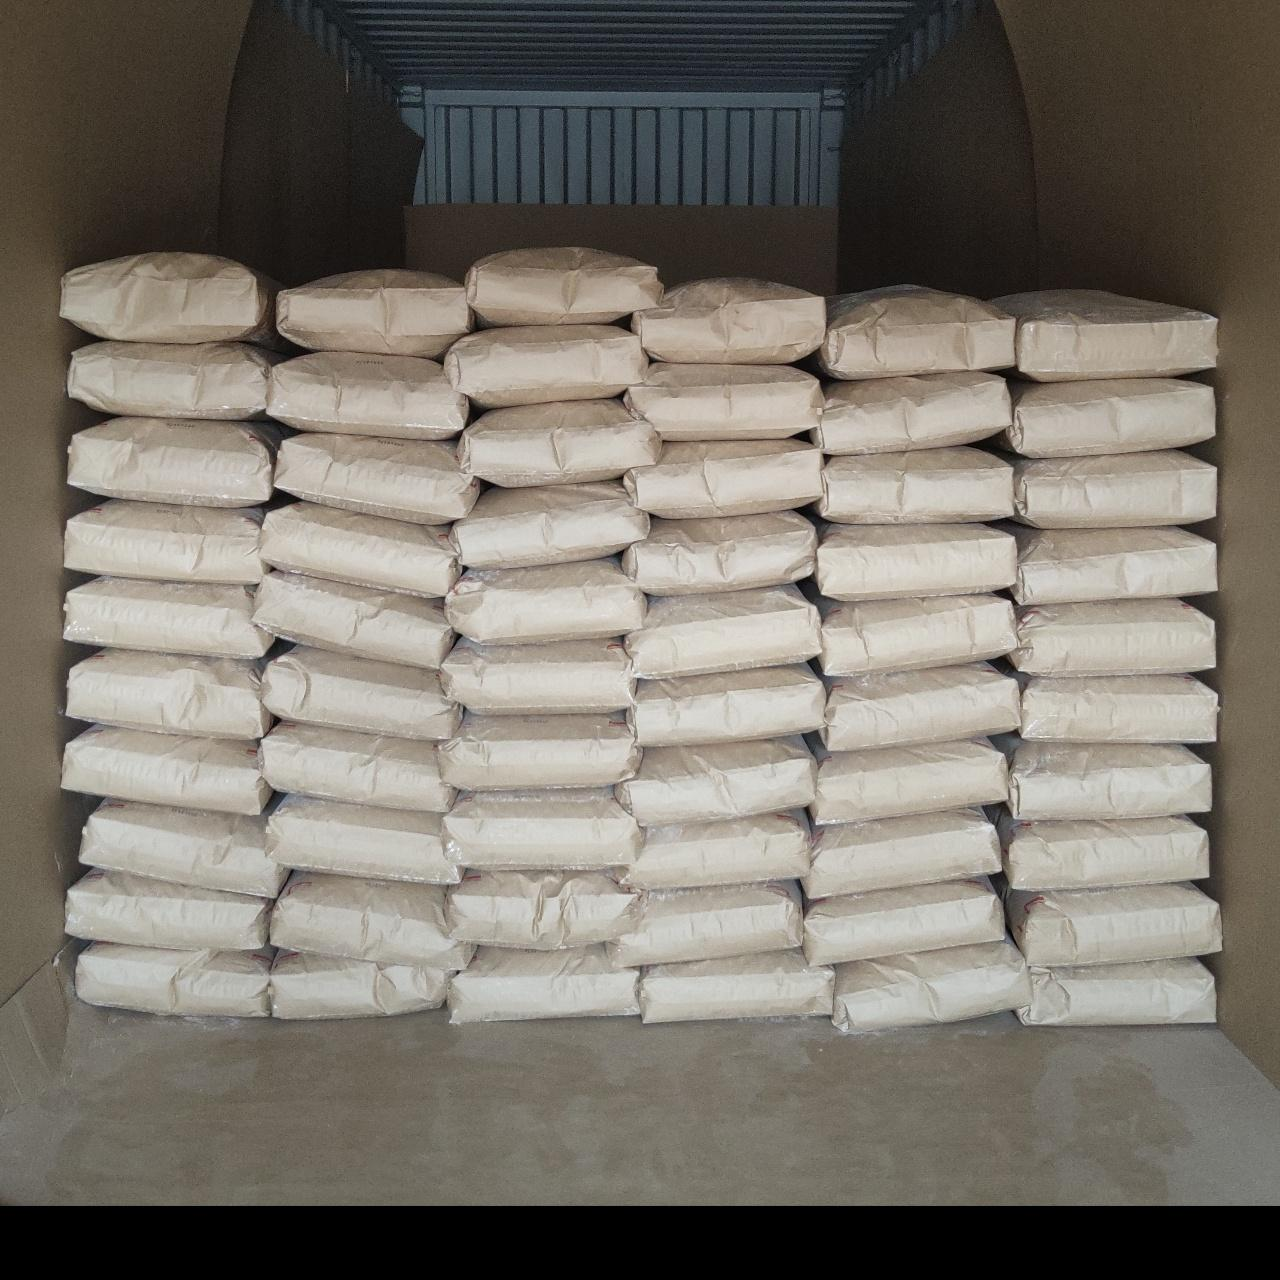sack: (80, 799, 286, 894), (994, 292, 1214, 380), (256, 572, 454, 668), (62, 254, 278, 342), (263, 502, 458, 595), (263, 646, 458, 738), (272, 874, 470, 966), (275, 434, 478, 522), (64, 728, 270, 813), (835, 940, 1028, 1030), (459, 400, 660, 486), (628, 586, 821, 676), (68, 651, 270, 736), (618, 738, 813, 826), (818, 286, 1014, 374), (70, 418, 275, 502), (822, 663, 1017, 750), (1008, 884, 1220, 964), (260, 724, 452, 812), (268, 354, 468, 438), (278, 270, 470, 356), (806, 880, 1005, 964), (806, 810, 998, 896), (268, 796, 459, 881), (66, 501, 264, 583), (454, 482, 646, 566), (1006, 742, 1210, 821), (66, 578, 270, 656), (445, 326, 646, 406), (812, 740, 1006, 822), (70, 342, 275, 420), (445, 560, 644, 640), (821, 594, 1016, 674), (812, 374, 1008, 454), (68, 872, 270, 949), (624, 512, 813, 594), (612, 881, 802, 964), (1005, 380, 1214, 454), (1012, 527, 1214, 604), (629, 666, 822, 744), (624, 440, 822, 516), (634, 280, 822, 360), (1014, 452, 1214, 526), (467, 248, 662, 324), (445, 790, 638, 866), (816, 524, 1014, 598), (440, 714, 638, 788), (1002, 818, 1206, 890), (1012, 600, 1214, 672), (448, 872, 638, 948), (626, 365, 821, 438), (818, 448, 1012, 522), (624, 812, 810, 888), (450, 946, 638, 1020), (442, 640, 634, 710), (79, 944, 270, 1014), (644, 952, 832, 1022), (1020, 676, 1216, 742), (1017, 960, 1214, 1022), (272, 952, 450, 1016)
